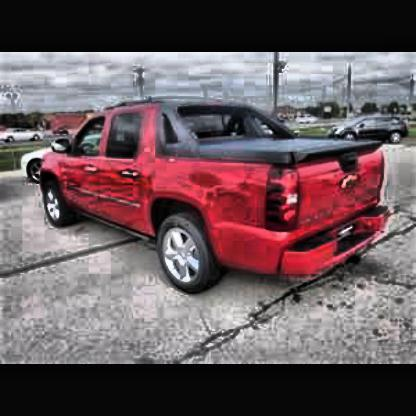Chevrolet Avalanche Crew Cab 2012: (40, 99, 396, 298)
